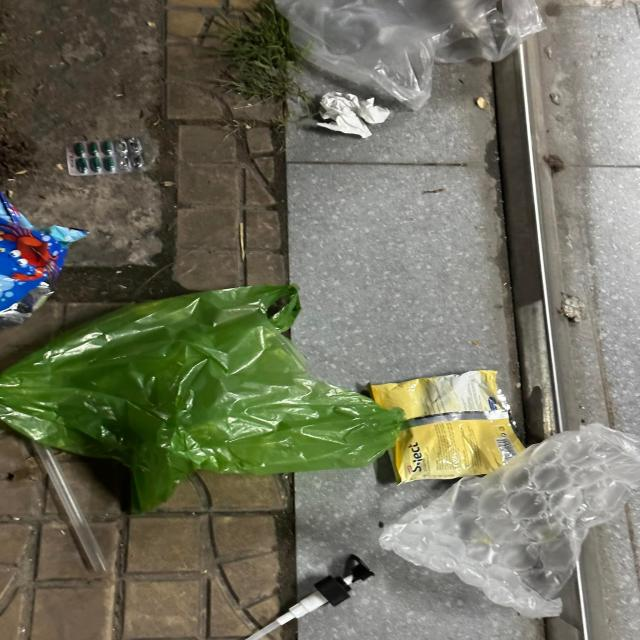bag: (0, 282, 406, 512), (379, 420, 640, 620), (273, 0, 549, 113)
drinking straw: (35, 442, 109, 575)
napkin: (317, 92, 390, 138)
snack package: (377, 369, 531, 485), (0, 192, 92, 326)
